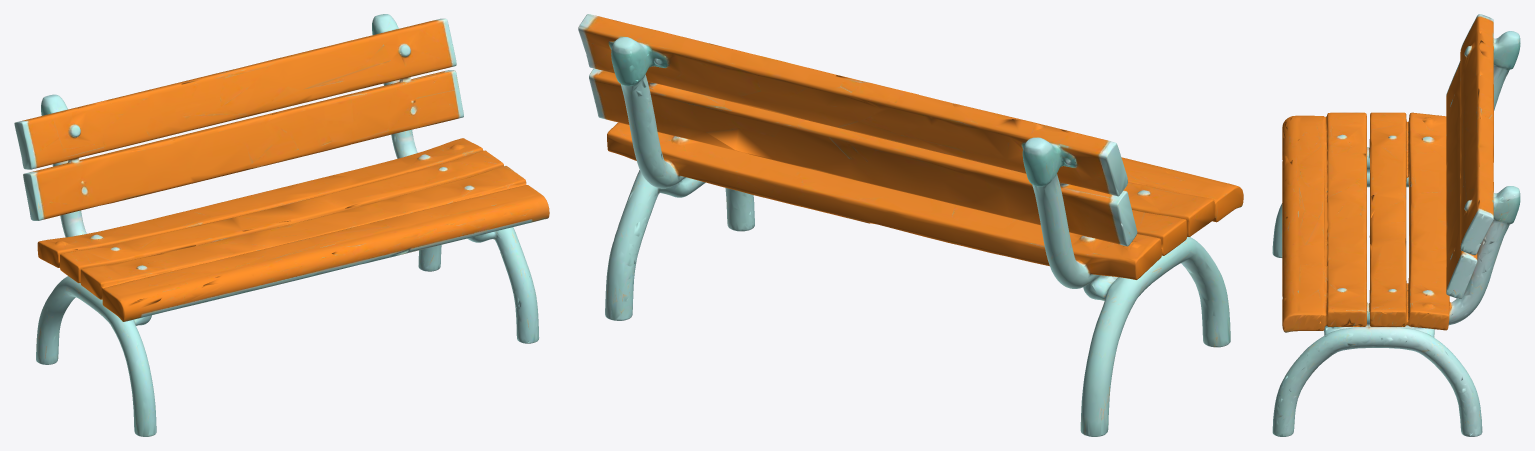
Rendered from prop-bench.glb.
3 views of the same model, side by side, from view 1: azimuth 30°, elevation 25°; view 2: azimuth 150°, elevation 25°; view 3: azimuth 270°, elevation 25° (orthographic). The views are drawn at different scales.
Size of the model in its own units: 1.91 by 1.05 by 1.01.
Materials: 1 (1 with a texture image).
